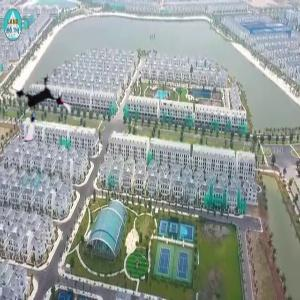drone: (2, 72, 75, 145)
